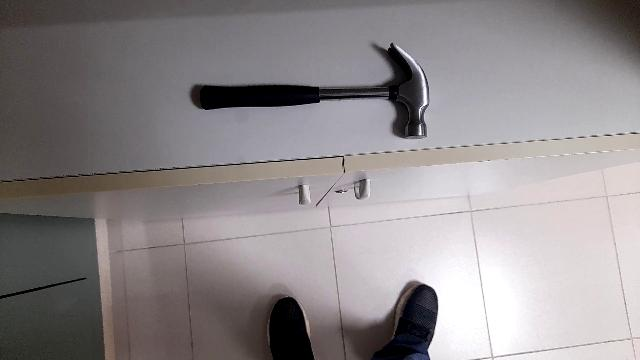hammer: (189, 34, 435, 146)
